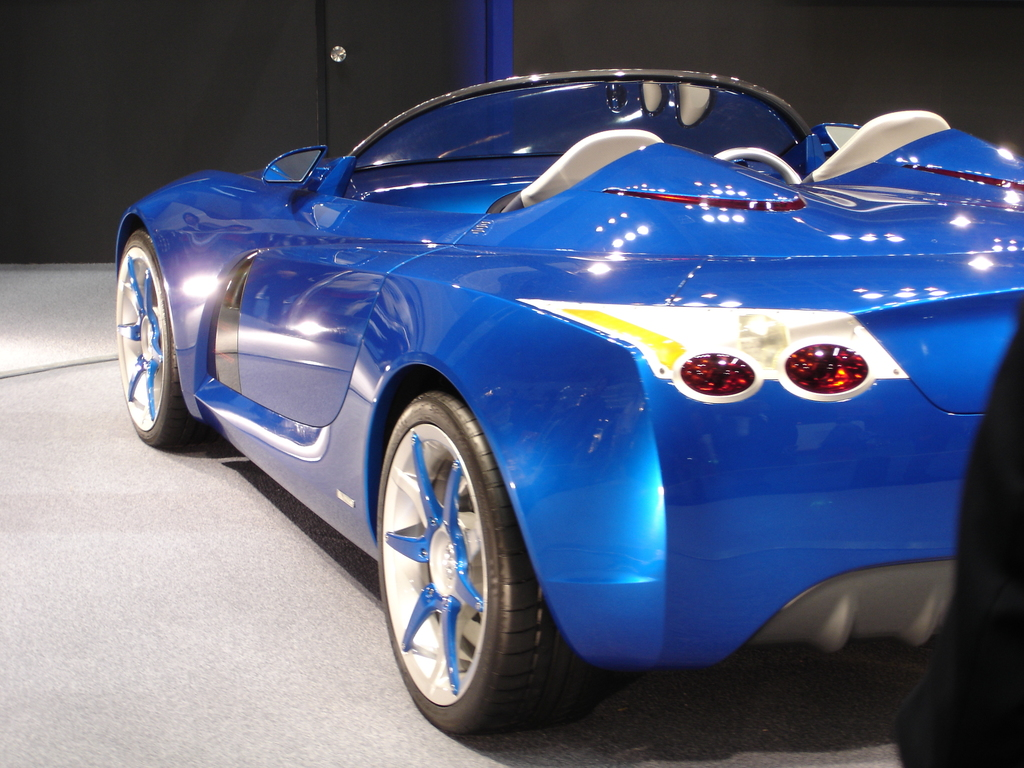Car: (111, 63, 1023, 736)
